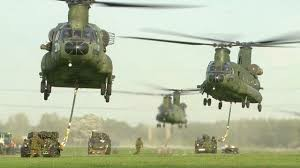chinook: (35, 1, 120, 105), (196, 39, 271, 115), (153, 83, 191, 129)
